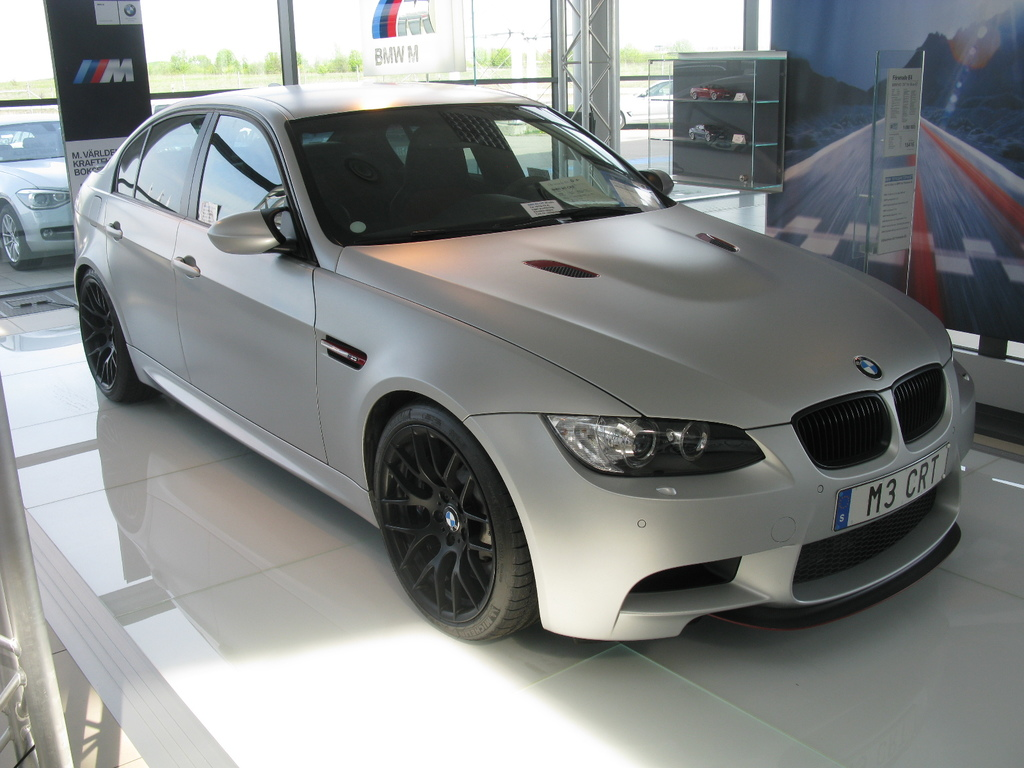mobil: (74, 69, 1019, 674)
